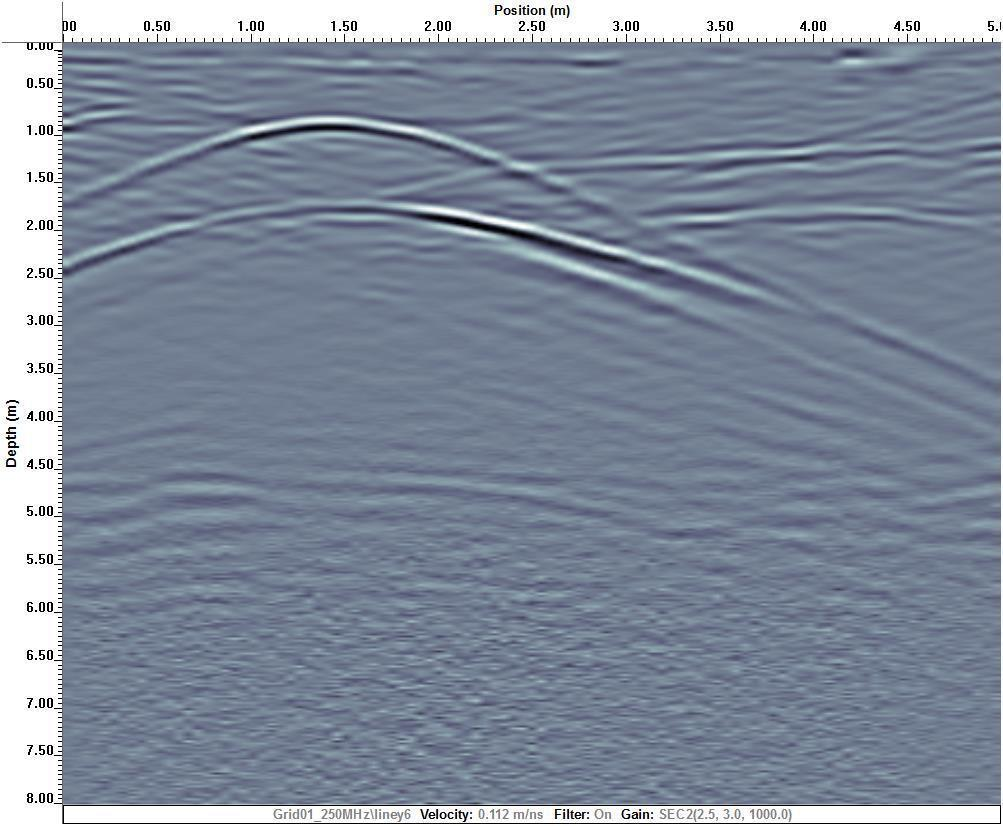hyperbola: (74, 186, 609, 285), (126, 95, 538, 195)
